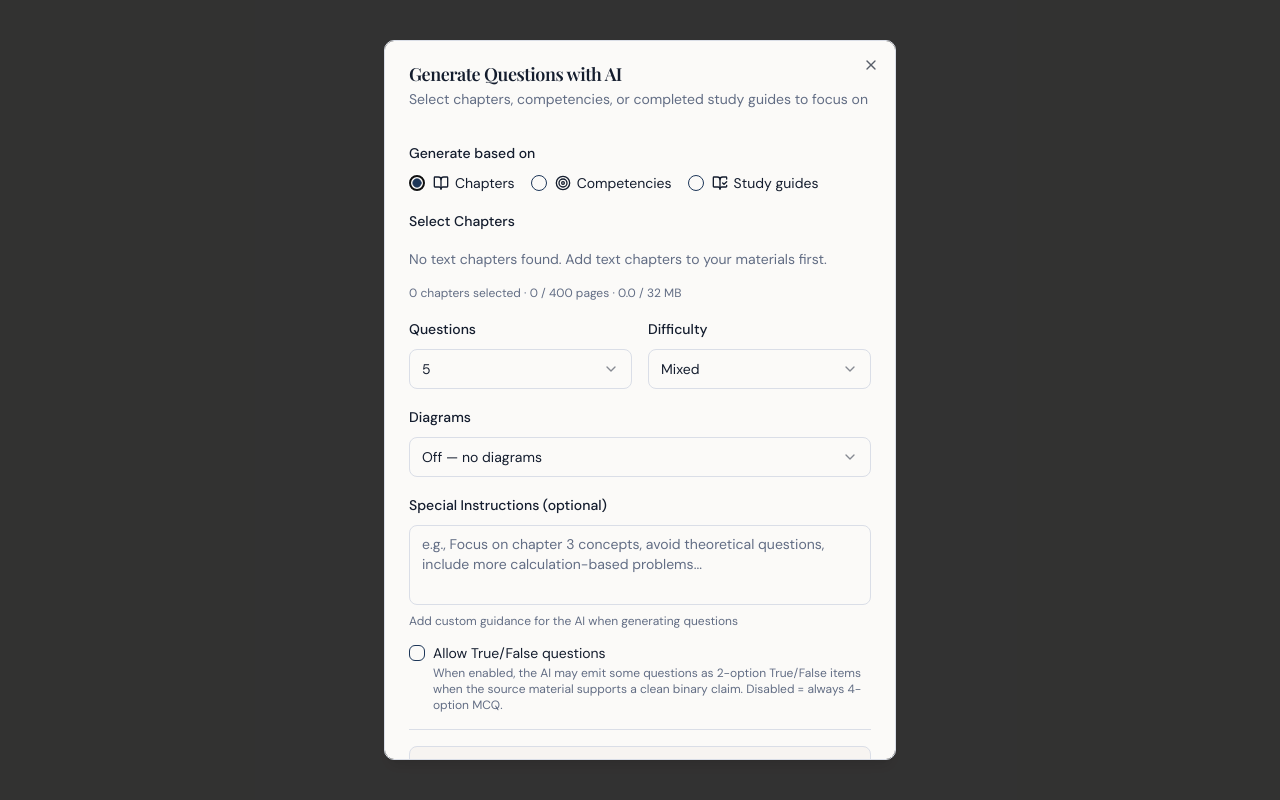
Test: GenerateMcqDialog (#873) › offers completed study guides and disables incomplete ones
Click the 3rd radio button named "Study guides" at (696, 183), box x1=688 y1=175 x2=704 y2=191
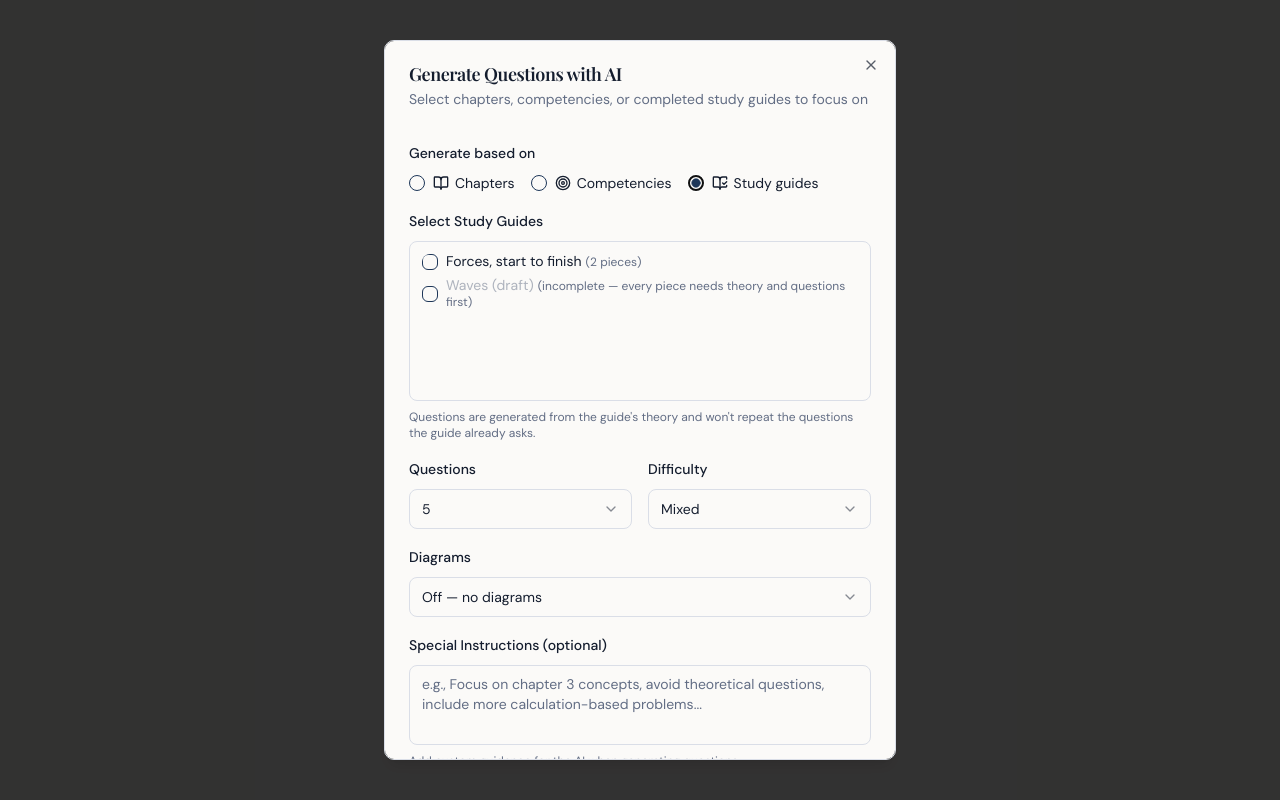
Result: the checkbox named "Forces, start to finish" next to "Forces, start to finish" is enabled at x1=422 y1=254 x2=438 y2=270
Result: the checkbox named "Waves (draft)" next to "Waves (draft)" is disabled at x1=422 y1=286 x2=438 y2=302
Result: the text "(incomplete — every piece needs theory and questions first)" is shown at x1=446 y1=278 x2=845 y2=310
